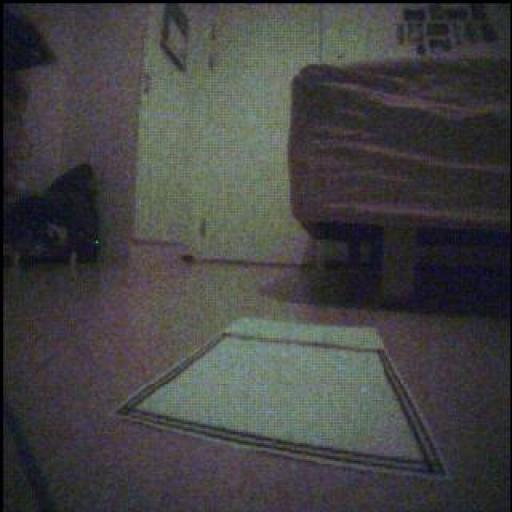pad: (118, 319, 447, 478)
